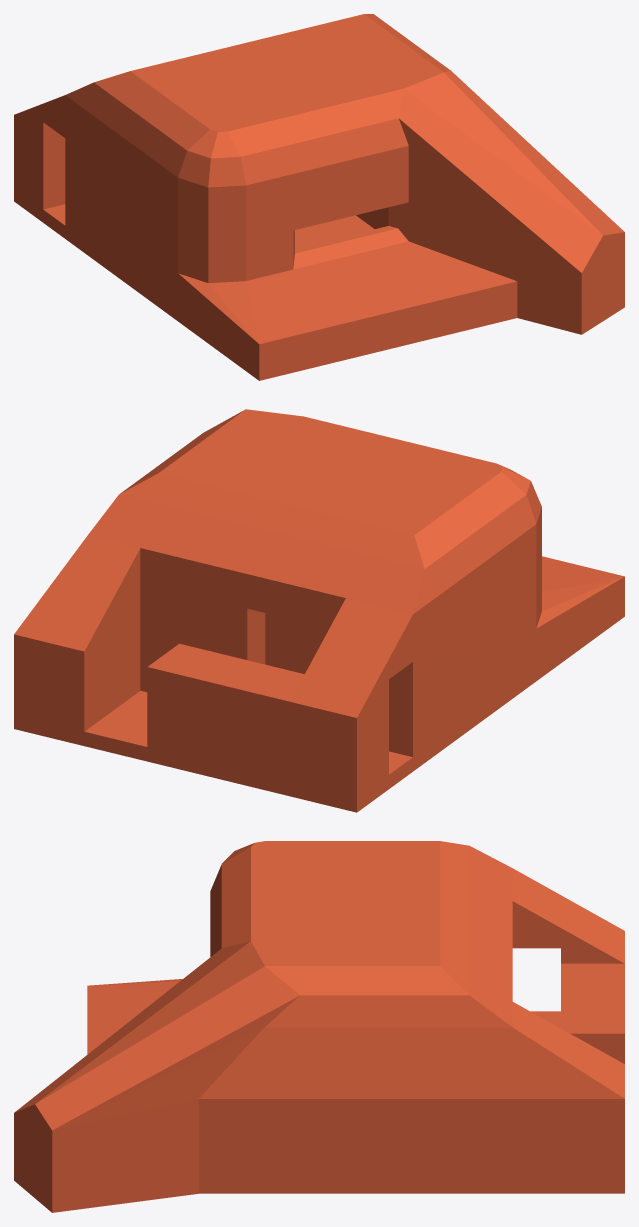
The model's file is bunker-medium.fbx.
The picture shows the model from 3 angles, top to bottom: view 1: azimuth 30°, elevation 25°; view 2: azimuth 150°, elevation 25°; view 3: azimuth 270°, elevation 25°; orthographic projection. The views are drawn at different scales.
Parts seen in each view (by area): view 1: bunker-medium; view 2: bunker-medium; view 3: bunker-medium.
Part boxes in pixels (x1,y1,x2,y2): bunker-medium: [14, 14, 624, 380]; bunker-medium: [14, 409, 624, 812]; bunker-medium: [14, 841, 624, 1212].
Bounding box in the file's own units: 8.13 × 4.09 × 11.23.
